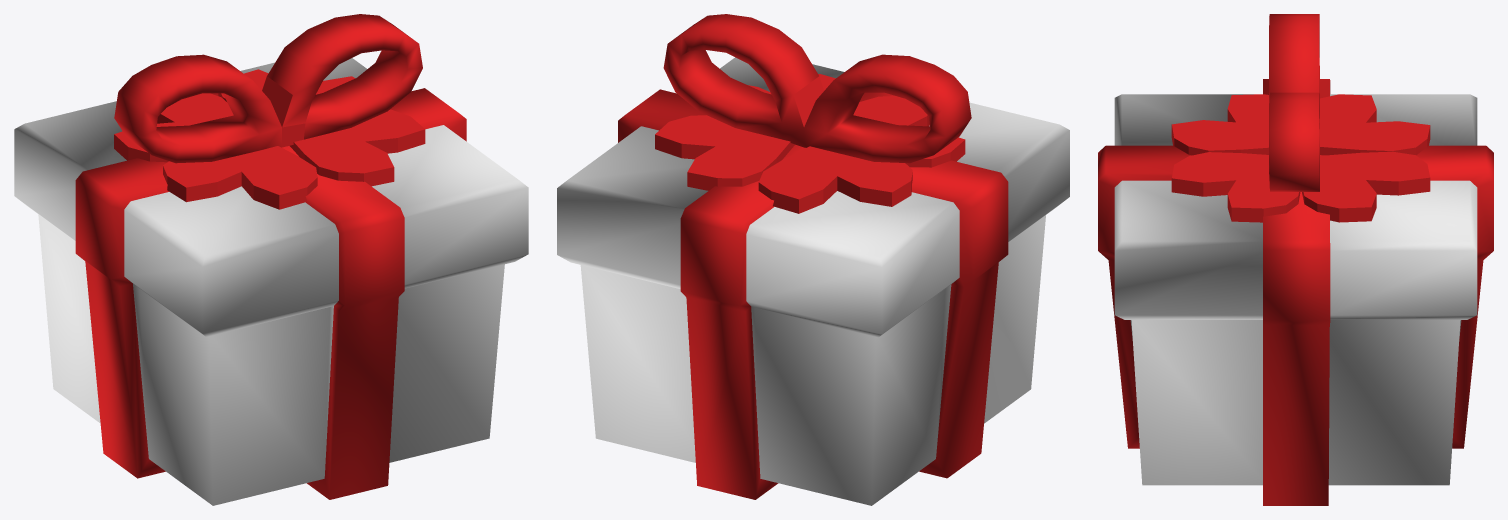
File: regalo.glb
3 renders of one model, left to right at view 1: azimuth 30°, elevation 25°; view 2: azimuth 150°, elevation 25°; view 3: azimuth 270°, elevation 25°, orthographic. The views are drawn at different scales.
Parts seen in each view (by area): view 1: regalo; view 2: regalo; view 3: regalo.
Boxes of the visible parts, x1,y1,x2,y2 form: regalo: [14, 14, 528, 505]; regalo: [557, 14, 1069, 505]; regalo: [1098, 14, 1493, 505].
Bounding box in the file's own units: 0.4074 × 0.42 × 0.4074.
